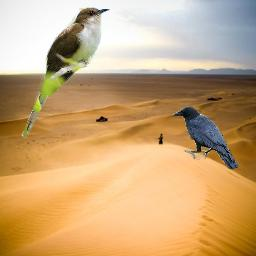Crow: (172, 106, 239, 171)
Cuckoo: (21, 6, 110, 138)
